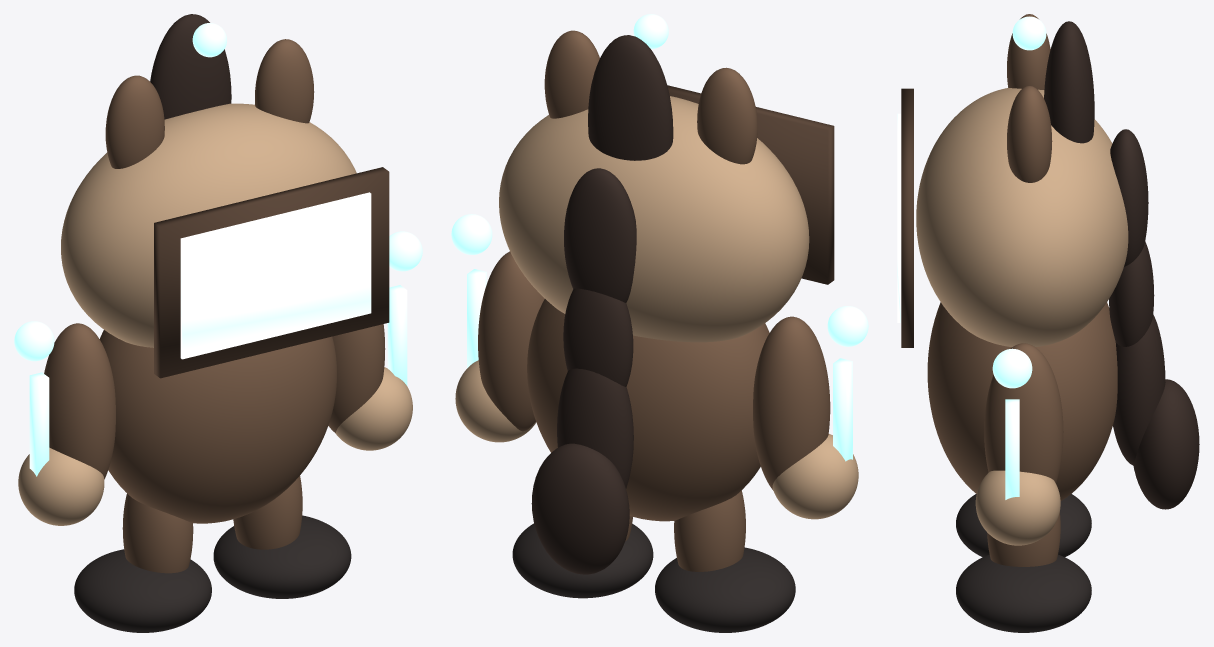
Rendered from horse.glb.
3 views of the same model, side by side, from view 1: azimuth 30°, elevation 25°; view 2: azimuth 150°, elevation 25°; view 3: azimuth 270°, elevation 25° (orthographic). The views are drawn at different scales.
Visible parts, largest first — view 1: body, head, face_screen, face_frame, arm_L, foot_L, foot_R, mane_top, hand_L, ear_L, leg_L, ear_R (+8 smaller); view 2: head, body, tail_tip, arm_L, mane_top, foot_L, mane_back_0, arm_R, face_frame, tail_base, mane_back_1, foot_R (+10 smaller); view 3: head, body, foot_R, arm_R, tail_tip, hand_R, tail_base, mane_top, ear_R, face_frame, mane_back_1, mane_back_0 (+7 smaller).
Boxes of the visible parts, x1,y1,x2,y2 form: body: (99,330,336,523); head: (61,103,356,347); face_screen: (180,192,371,359); face_frame: (154,167,389,378); arm_L: (44,323,115,479); foot_L: (74,549,211,632); foot_R: (213,515,351,598); mane_top: (150,14,231,119); hand_L: (18,447,104,525); ear_L: (105,75,164,168); leg_L: (122,493,193,573); ear_R: (255,39,314,123); head: (499,96,809,342); body: (527,299,769,521); tail_tip: (531,443,629,574); arm_L: (753,316,830,490); mane_top: (588,35,673,160); foot_L: (655,547,795,632); mane_back_0: (564,168,636,302); arm_R: (478,251,544,431); face_frame: (667,85,834,284); tail_base: (557,368,633,488); mane_back_1: (563,288,633,386); foot_R: (512,523,653,598); head: (916,88,1128,346); body: (927,302,1117,500); foot_R: (956,554,1091,632); arm_R: (984,343,1063,483); tail_tip: (1133,379,1199,509); hand_R: (975,470,1060,545); tail_base: (1113,315,1165,465); mane_top: (1044,21,1094,143); ear_R: (1007,86,1052,182); face_frame: (901,88,913,347); mane_back_1: (1109,241,1154,346); mane_back_0: (1110,129,1148,266).
Size of the model in its own units: 0.7881 by 1.08 by 0.5186.
